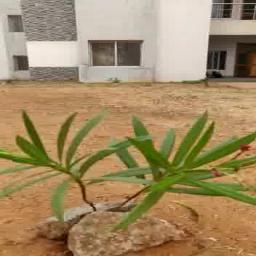OLEANDER: (12, 107, 256, 208)
